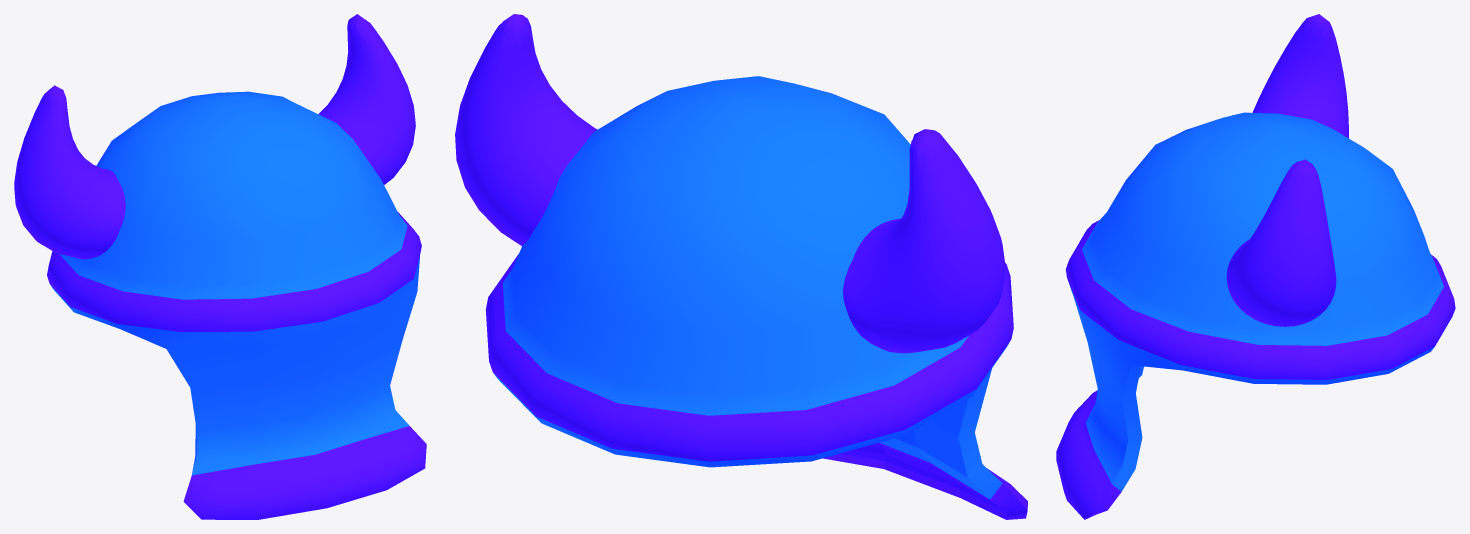
Rendered from Halmet3.fbx.
3 renders of one model, left to right at view 1: azimuth 30°, elevation 25°; view 2: azimuth 150°, elevation 25°; view 3: azimuth 270°, elevation 25°, orthographic. The views are drawn at different scales.
Visible parts, largest first — view 1: Halmet; view 2: Halmet; view 3: Halmet.
Part boxes in pixels (bbox=[...]): Halmet: bbox=[14, 14, 426, 519]; Halmet: bbox=[455, 14, 1027, 519]; Halmet: bbox=[1056, 14, 1455, 519].
Bounding box in the file's own units: 0.00129 × 0.0012 × 0.00113.
